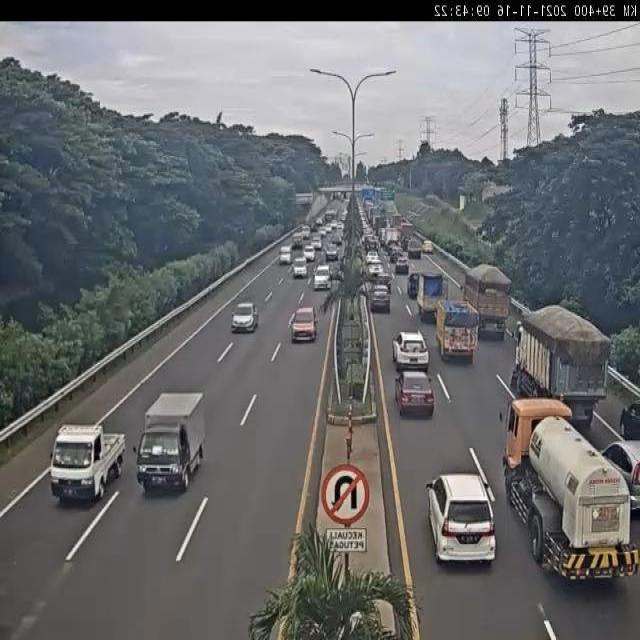Car: (424, 473, 498, 567), (395, 368, 436, 418), (392, 330, 429, 372), (290, 305, 318, 342), (230, 302, 260, 333), (369, 285, 392, 314), (313, 267, 331, 290), (375, 272, 393, 292), (292, 257, 308, 278), (367, 262, 384, 279), (279, 245, 292, 265), (395, 256, 409, 274), (325, 244, 338, 261), (304, 245, 316, 262), (366, 250, 378, 266), (389, 247, 401, 263), (422, 240, 433, 254)
Truck: (501, 397, 640, 580), (513, 303, 611, 426), (135, 388, 207, 491), (50, 421, 126, 503), (464, 264, 510, 342), (434, 298, 479, 361), (418, 273, 449, 313)
